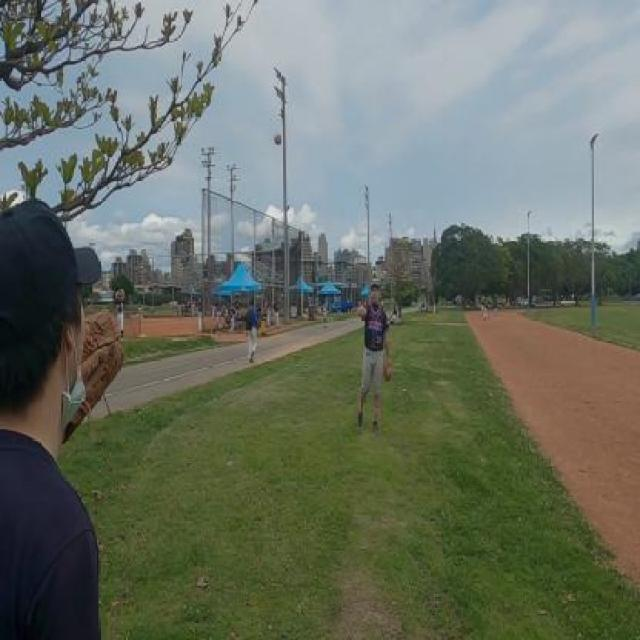baseball: (274, 132, 281, 146)
